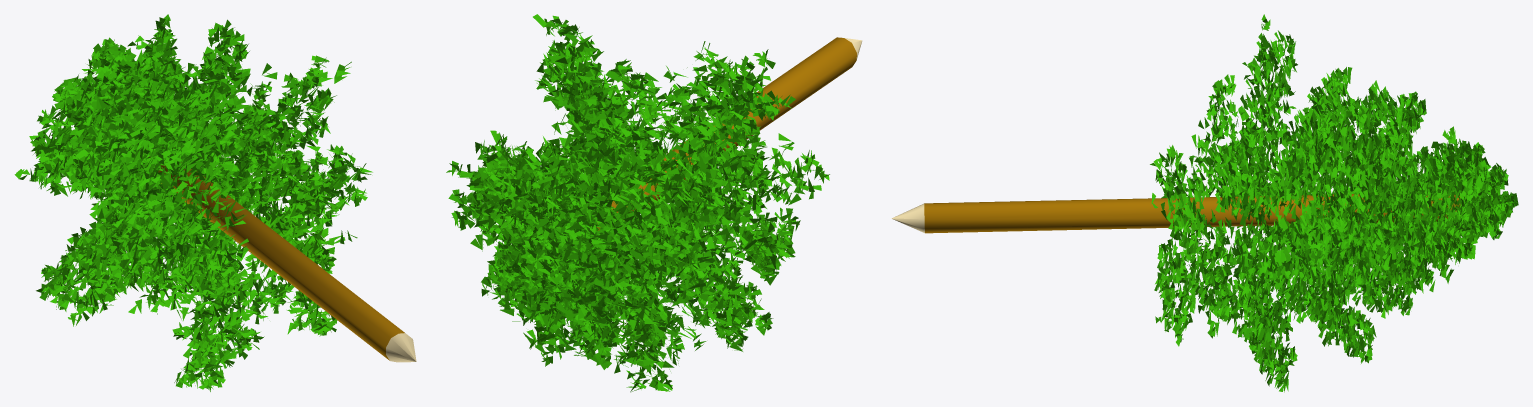
File: tree2Talado.glb
The picture shows the model from 3 angles, left to right: view 1: azimuth 30°, elevation 25°; view 2: azimuth 150°, elevation 25°; view 3: azimuth 270°, elevation 25°; orthographic projection. The views are drawn at different scales.
Parts seen in each view (by area): view 1: leaves.17211, leaves.17212; view 2: leaves.17211, leaves.17212; view 3: leaves.17211, leaves.17212.
Boxes of the visible parts, <box> form: leaves.17211: <box>14,14,372,391</box>; leaves.17212: <box>145,149,416,362</box>; leaves.17211: <box>446,14,829,392</box>; leaves.17212: <box>595,37,862,230</box>; leaves.17211: <box>1150,14,1518,392</box>; leaves.17212: <box>891,194,1460,233</box>.
Bounding box in the file's own units: 7.66 × 8.3 × 14.54.
